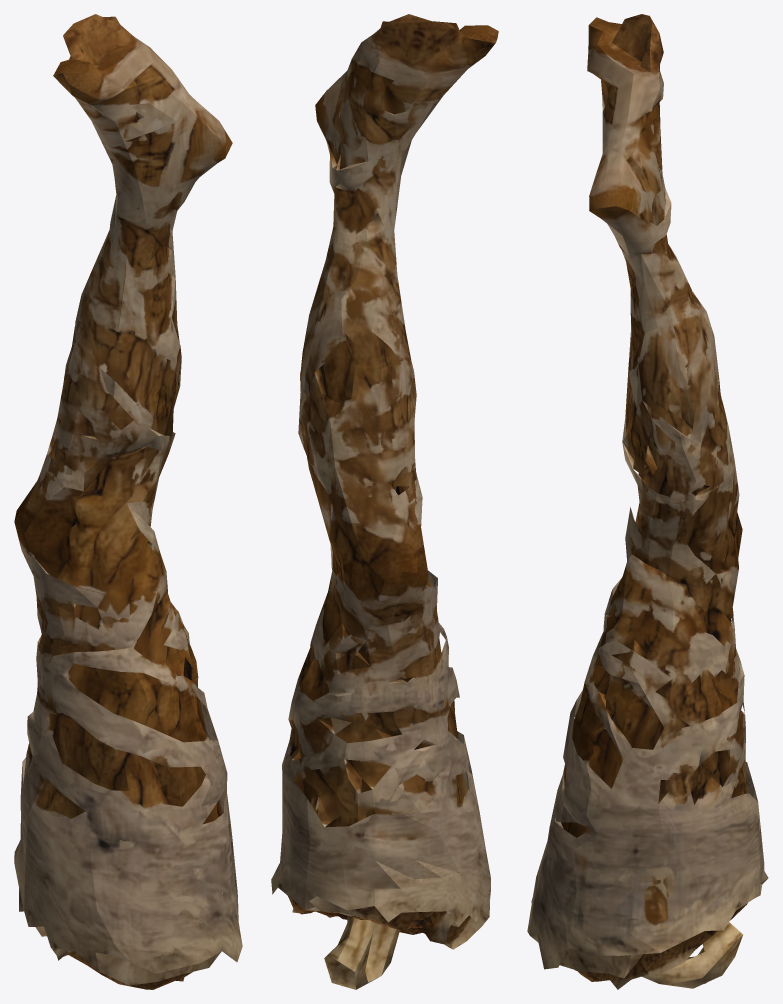
File: mummy_leg.glb
3 renders of one model, left to right at view 1: azimuth 30°, elevation 25°; view 2: azimuth 150°, elevation 25°; view 3: azimuth 270°, elevation 25°, orthographic. The views are drawn at different scales.
Parts seen in each view (by area): view 1: geometry_0; view 2: geometry_0; view 3: geometry_0.
Boxes of the visible parts, bbox=[...] form: geometry_0: bbox=[14, 14, 242, 989]; geometry_0: bbox=[271, 14, 498, 989]; geometry_0: bbox=[527, 14, 768, 989].
Bounding box in the file's own units: 0.1786 × 0.85 × 0.1969.
1 material, 1 textured.
